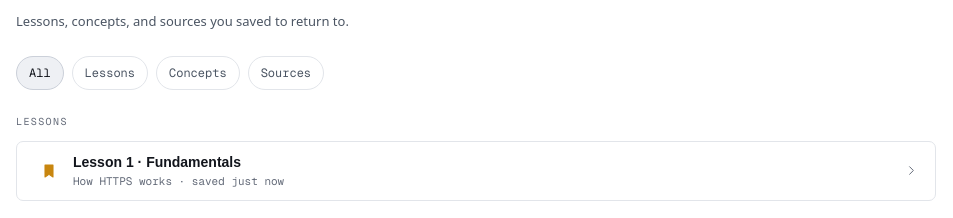
Test: BookmarksScreen › a filtered-empty kind says so instead of a blank canvas
expect the element "Lessons" is shown: met, box [16,114,936,200]
Click the button "Sources": [286, 72] box [248,56,324,90]
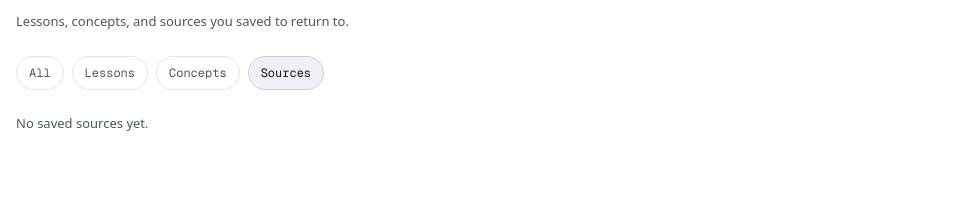
expect the text "No saved sources yet." is shown: met, box [16,114,148,132]
